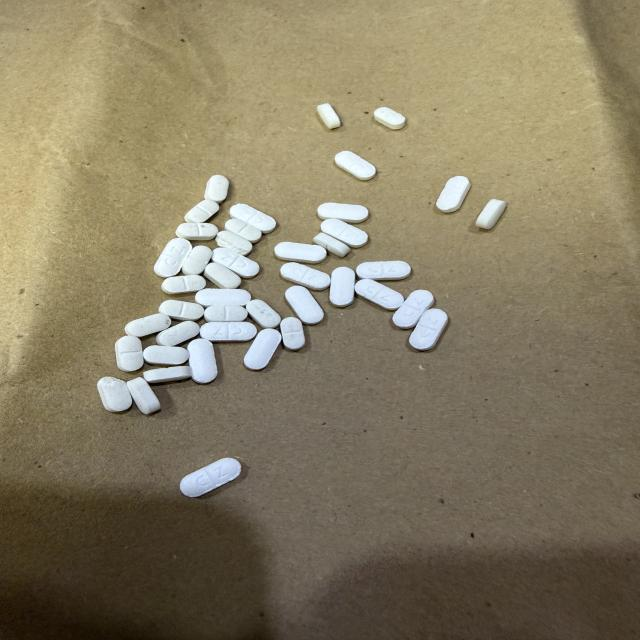pill: (180, 458, 241, 497), (409, 309, 448, 350), (392, 290, 433, 328), (154, 238, 192, 278), (244, 329, 281, 370), (355, 279, 403, 310), (285, 286, 323, 324), (212, 248, 259, 278), (280, 263, 331, 290), (187, 338, 217, 383), (321, 219, 368, 247), (230, 204, 275, 233), (436, 176, 470, 213), (97, 377, 132, 412), (127, 377, 160, 414), (335, 151, 376, 180), (125, 313, 171, 337), (200, 322, 257, 341), (156, 321, 199, 346), (275, 242, 326, 263), (356, 261, 411, 280), (115, 335, 143, 371), (318, 203, 368, 223), (330, 267, 355, 307), (246, 300, 281, 328), (204, 263, 241, 288), (225, 218, 262, 243), (196, 289, 250, 306), (159, 300, 204, 320), (216, 230, 252, 255), (476, 199, 506, 229), (313, 233, 350, 257), (144, 345, 188, 365), (182, 245, 211, 275), (162, 275, 206, 294), (280, 317, 305, 350), (144, 366, 191, 383), (185, 200, 219, 222), (176, 223, 217, 240), (374, 107, 405, 129), (205, 175, 229, 203), (205, 306, 247, 321), (317, 104, 340, 129)
